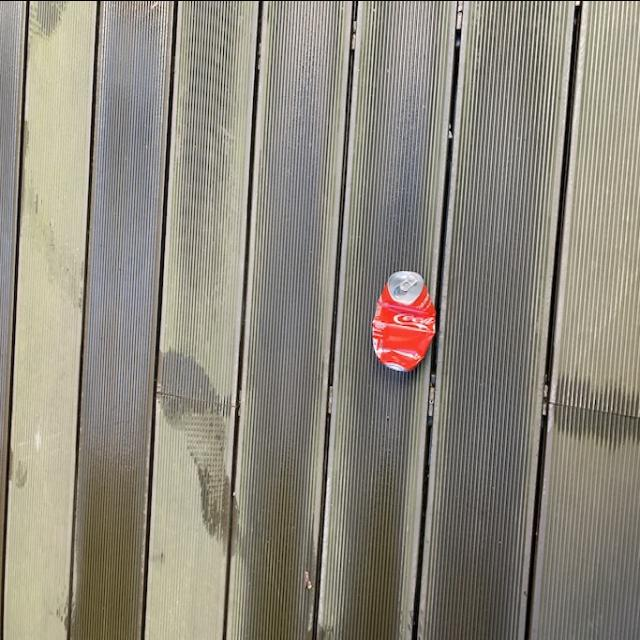Aluminum Can: (374, 268, 439, 372)
